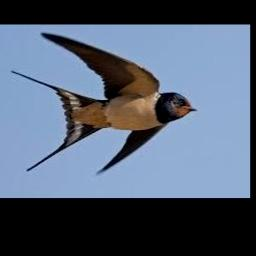Swallow: (11, 32, 196, 175)
